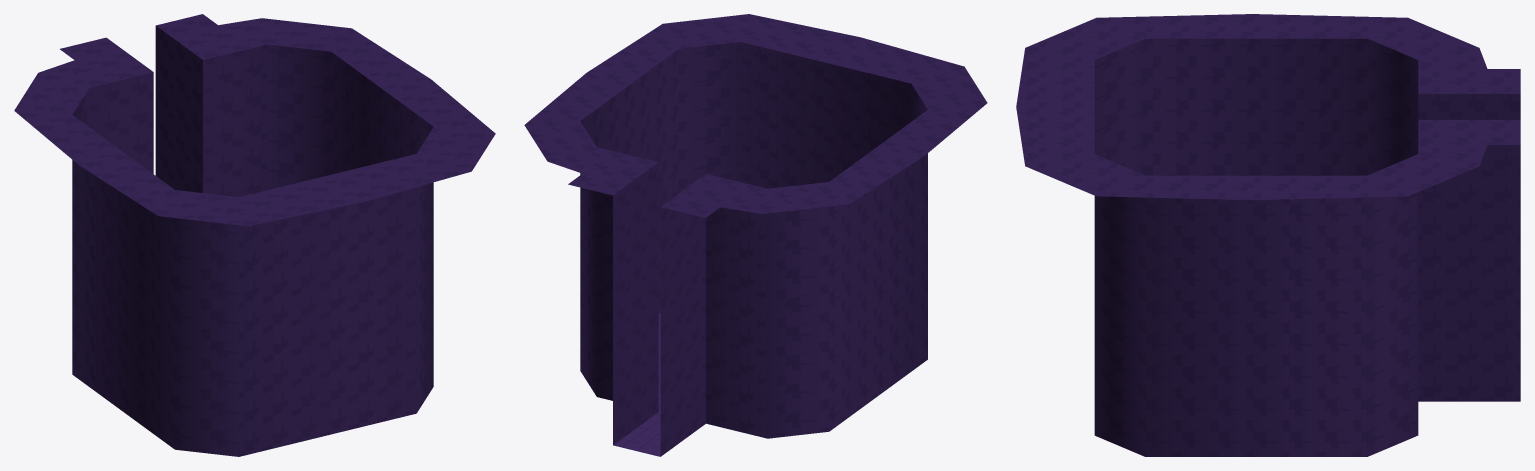
File: RobotBrain.fbx
3 renders of one model, left to right at view 1: azimuth 30°, elevation 25°; view 2: azimuth 150°, elevation 25°; view 3: azimuth 270°, elevation 25°, orthographic. The views are drawn at different scales.
Parts seen in each view (by area): view 1: Plane; view 2: Plane; view 3: Plane.
Boxes of the visible parts, x1=… form: Plane: x1=14, y1=14, x2=495, y2=456; Plane: x1=524, y1=14, x2=987, y2=456; Plane: x1=1016, y1=14, x2=1520, y2=456.
Size of the model in its own units: 272 by 192 by 312.
Materials: 2 (2 with a texture image).
